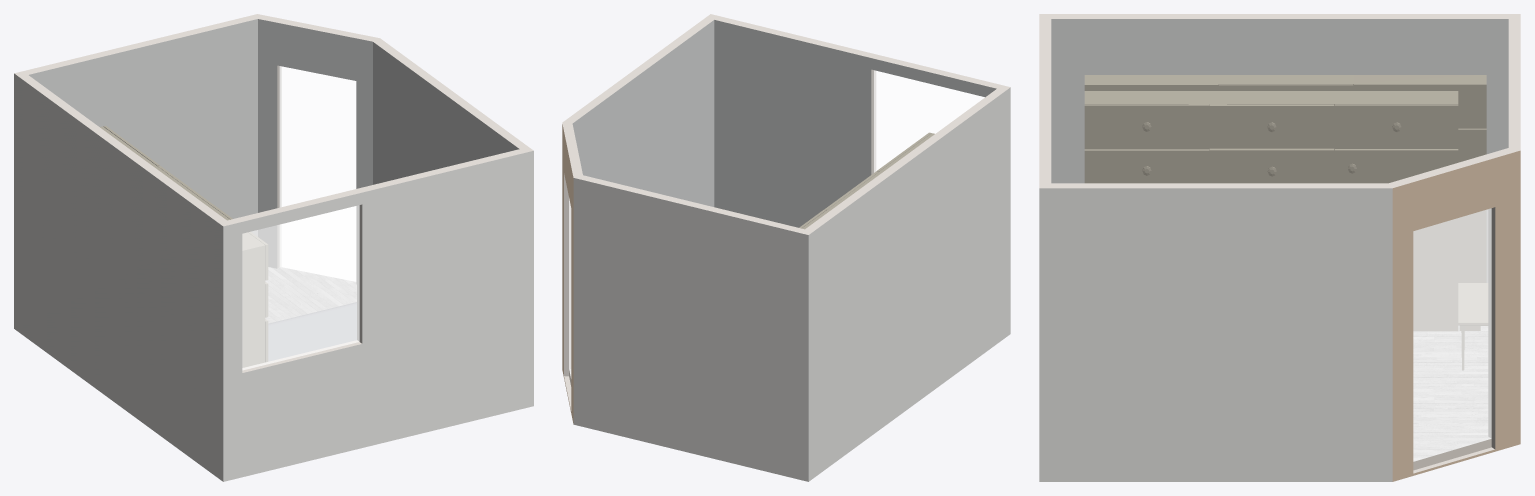
Rendered from room2.glb.
3 views of the same model, side by side, from view 1: azimuth 30°, elevation 25°; view 2: azimuth 150°, elevation 25°; view 3: azimuth 270°, elevation 25° (orthographic). The views are drawn at different scales.
Parts seen in each view (by area): view 1: wall_2, wall_0, wall_13, window_0, window_2, wall_11, wall_7, door_0, door_2, storage_cabinet_mid31, floor_Bedroom_0, bed0 (+5 smaller); view 2: wall_4, wall_0, wall_9, wall_11, window_0, window_2, wall_10, wall_8, wall_6, wall_1, wall_12, wall_14 (+1 smaller); view 3: wall_3, storage_cabinet_mid31, wall_5, wall_1, door_0, door_2, storage_cabinet_mid30, floor_Bedroom_0, wall_8, wall_6, wall_10, wall_12 (+3 smaller).
Part boxes in pixels (<box>): wall_2: <box>223,150,533,481</box>; wall_0: <box>14,73,223,481</box>; wall_13: <box>29,19,257,236</box>; window_0: <box>242,205,359,369</box>; window_2: <box>242,205,359,369</box>; wall_11: <box>373,42,519,184</box>; wall_7: <box>258,19,372,283</box>; door_0: <box>280,66,355,207</box>; door_2: <box>280,66,355,206</box>; storage_cabinet_mid31: <box>100,125,267,367</box>; floor_Bedroom_0: <box>265,267,356,323</box>; bed0: <box>268,302,356,361</box>; wall_4: <box>573,178,808,481</box>; wall_0: <box>808,87,1010,481</box>; wall_9: <box>714,20,996,227</box>; wall_11: <box>572,20,714,206</box>; window_0: <box>874,70,984,172</box>; window_2: <box>874,70,984,172</box>; wall_10: <box>711,14,1010,174</box>; wall_8: <box>562,122,582,410</box>; wall_6: <box>805,87,1009,234</box>; wall_1: <box>562,124,573,424</box>; wall_12: <box>562,14,714,123</box>; wall_14: <box>574,175,808,234</box>; wall_3: <box>1039,188,1392,481</box>; storage_cabinet_mid31: <box>1084,91,1458,330</box>; wall_5: <box>1051,19,1508,282</box>; wall_1: <box>1392,150,1520,481</box>; door_0: <box>1413,208,1491,461</box>; door_2: <box>1413,209,1491,461</box>; storage_cabinet_mid30: <box>1084,75,1486,282</box>; floor_Bedroom_0: <box>1413,325,1491,461</box>; wall_8: <box>1389,148,1519,473</box>; wall_6: <box>1040,14,1519,18</box>; wall_10: <box>1039,14,1051,187</box>; wall_12: <box>1040,183,1392,188</box>.
Bounding box in the file's own units: 3.45 × 2.71 × 4.03.
